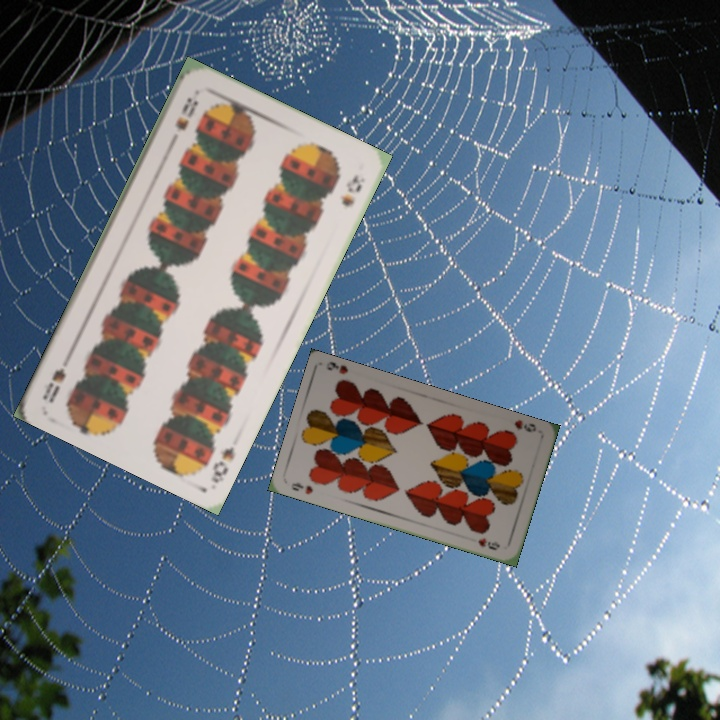H9: (510, 416, 539, 435), (287, 478, 316, 497)
S8: (206, 442, 238, 486), (171, 93, 201, 134)
